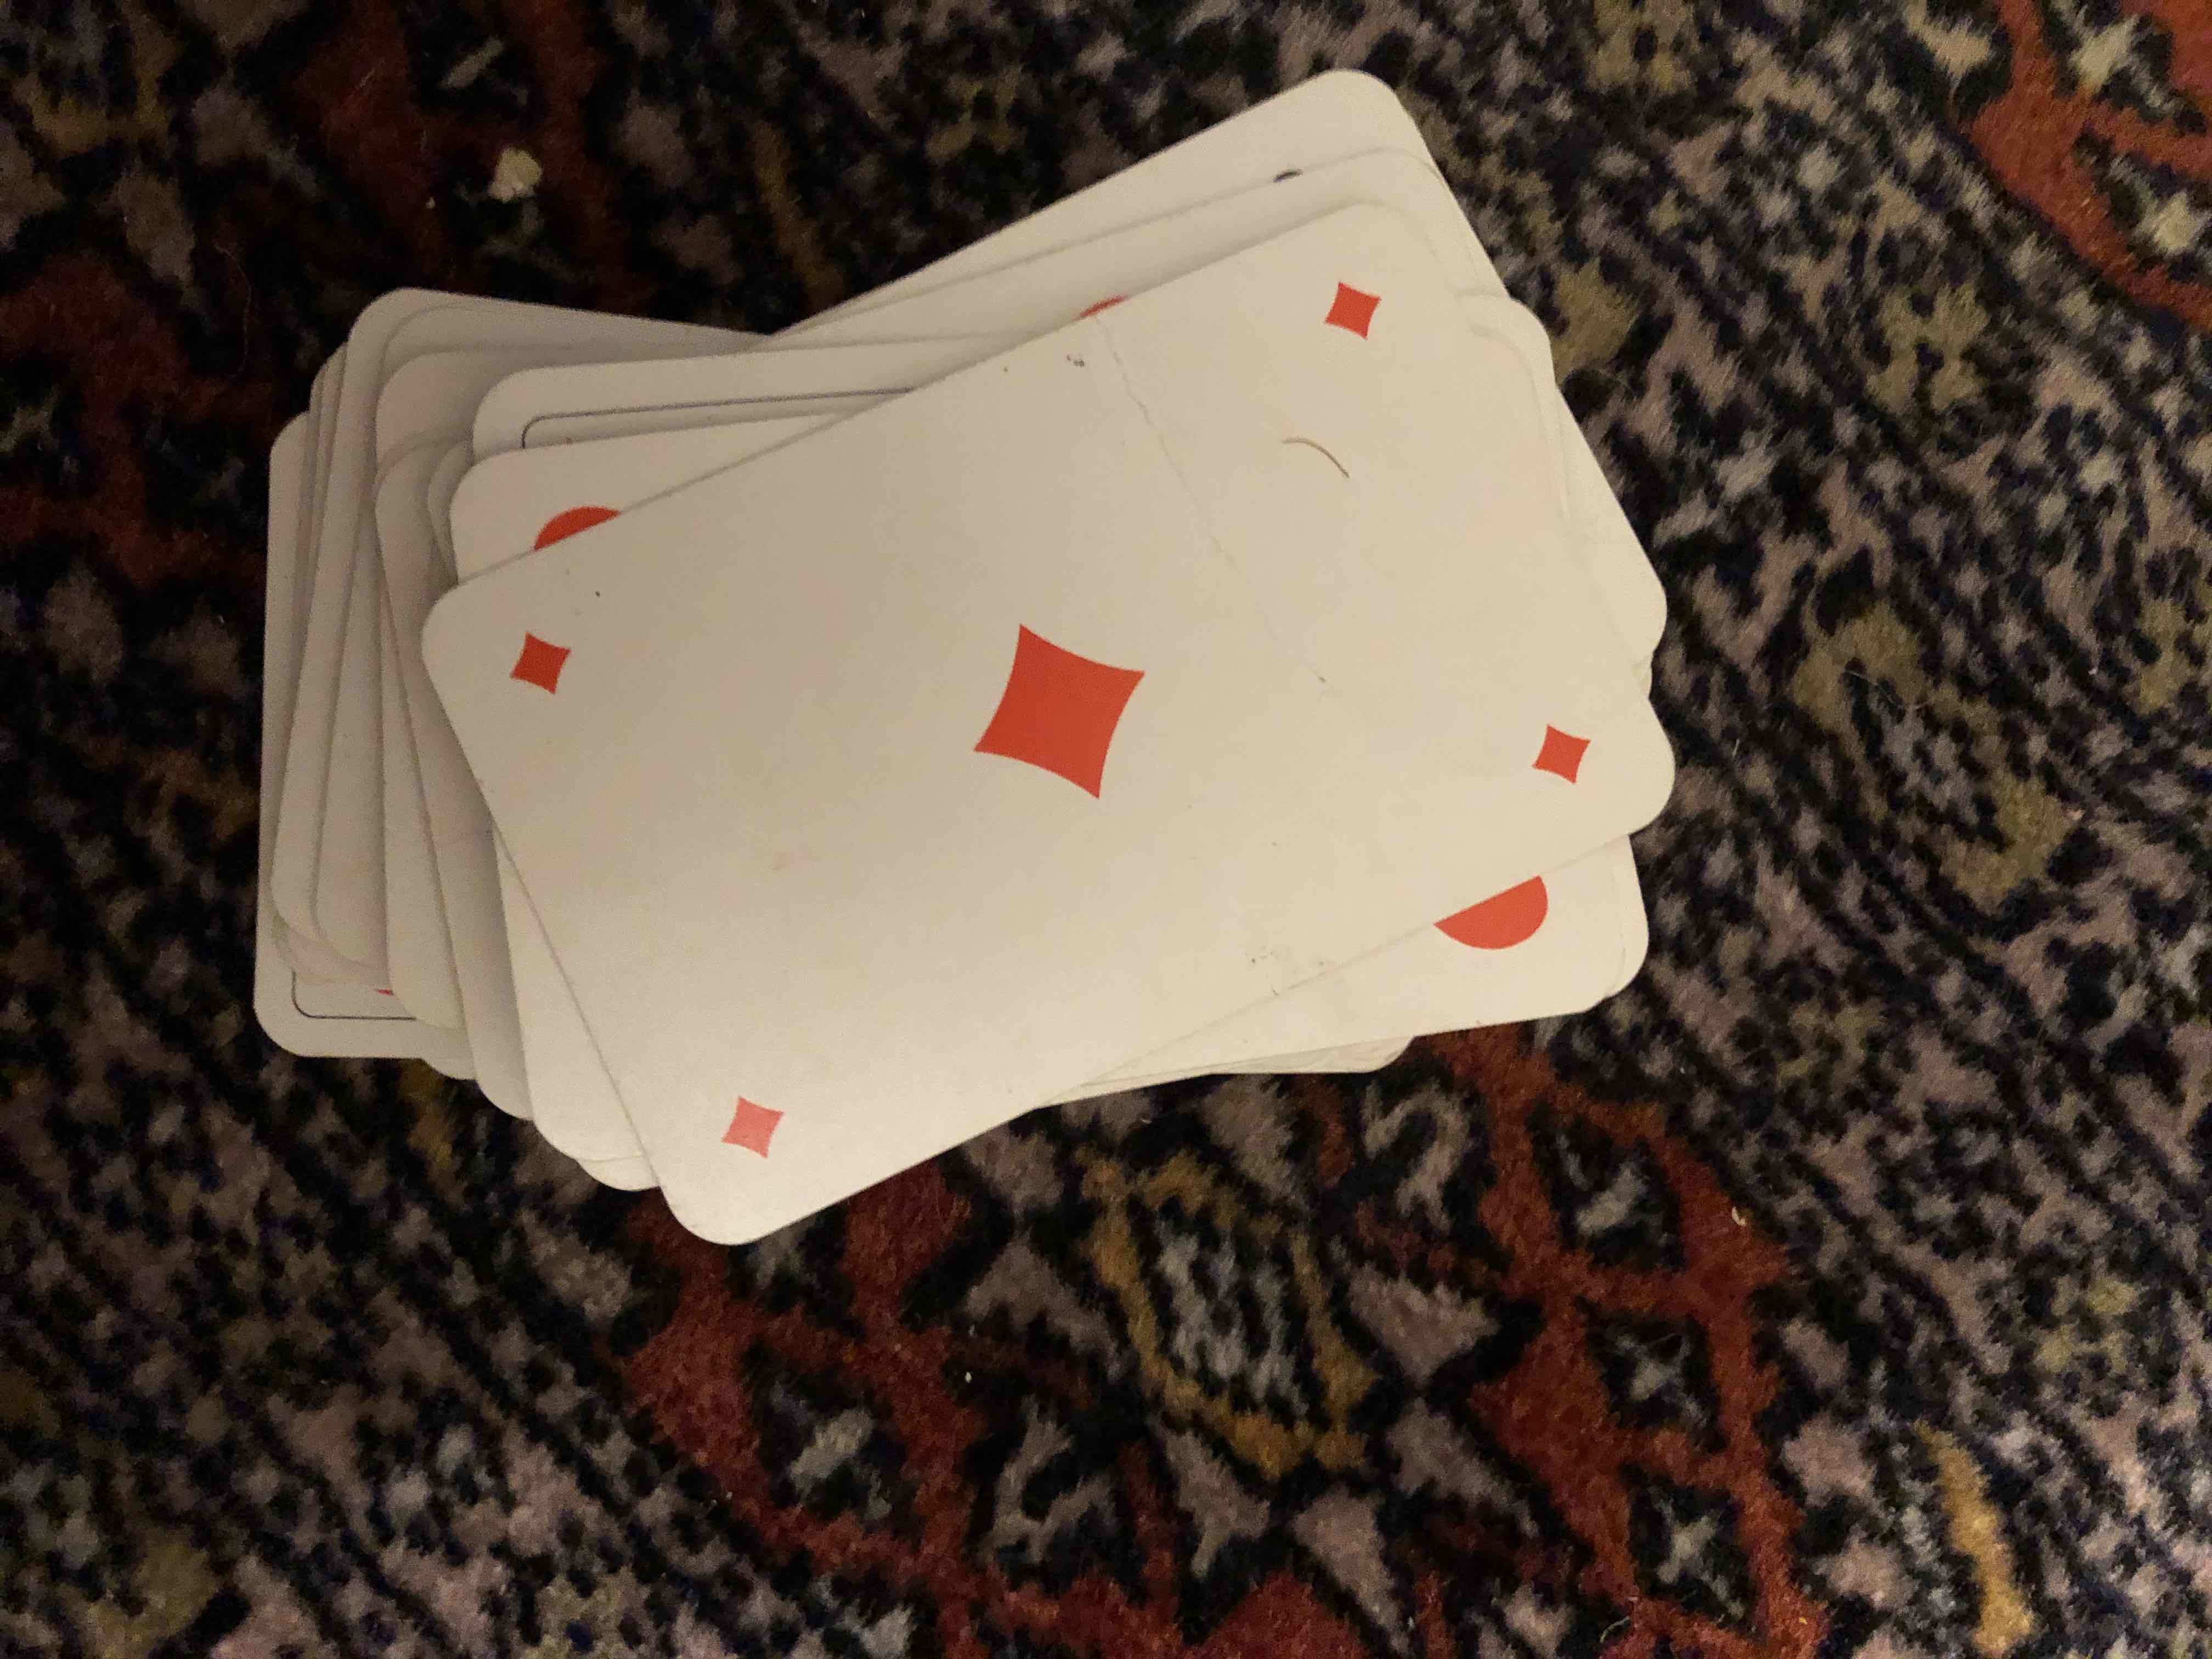diamondAce: (453, 183, 1703, 1180)
